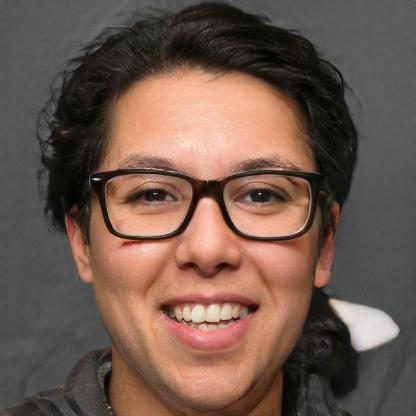glasses: (88, 163, 324, 244)
